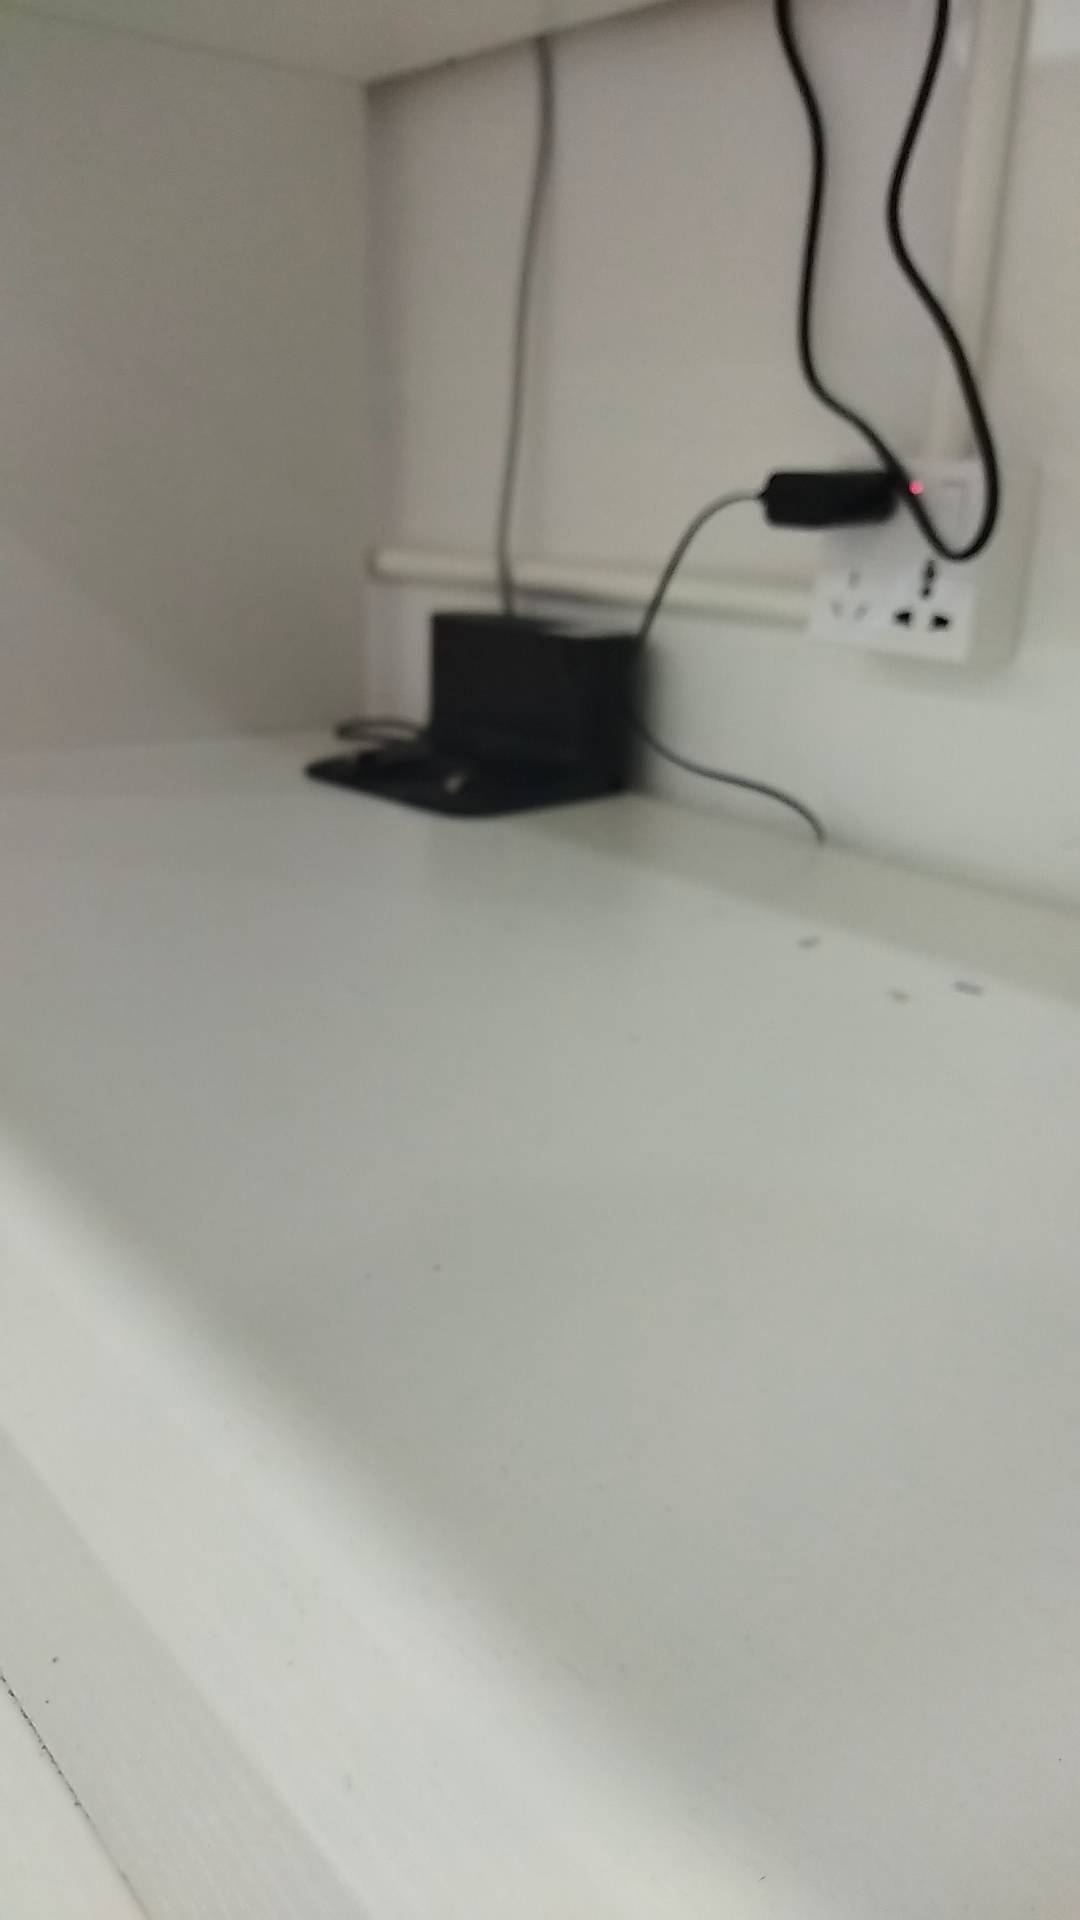recharge seat: (305, 611, 655, 820)
